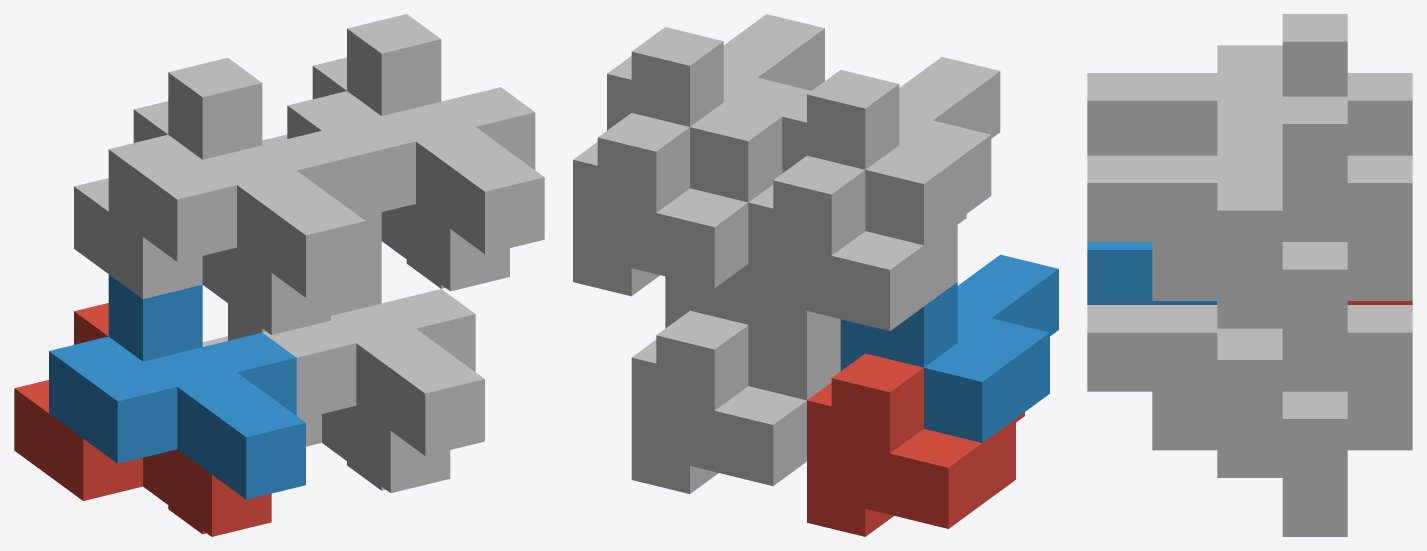
The model's file is tiling.obj.
The picture shows the model from 3 angles, left to right: view 1: azimuth 30°, elevation 25°; view 2: azimuth 150°, elevation 25°; view 3: azimuth 270°, elevation 25°; orthographic projection. The views are drawn at different scales.
Parts seen in each view (by area): view 1: copy_1_domain_4, copy_1_domain_2, copy_1_domain_8, copy_1_domain_6, copy_1_domain_3, copy_1_domain_1, copy_1_domain_7, copy_1_domain_5; view 2: copy_1_domain_4, copy_1_domain_3, copy_1_domain_1, copy_1_domain_8, copy_1_domain_5, copy_1_domain_7, copy_1_domain_2, copy_1_domain_6; view 3: copy_1_domain_8, copy_1_domain_5, copy_1_domain_7, copy_1_domain_4, copy_1_domain_6, copy_1_domain_3, copy_1_domain_2.
Part boxes in pixels (bbox=[...]): copy_1_domain_4: bbox=[108, 57, 365, 297]; copy_1_domain_2: bbox=[49, 274, 305, 499]; copy_1_domain_8: bbox=[287, 14, 544, 253]; copy_1_domain_6: bbox=[228, 241, 484, 455]; copy_1_domain_3: bbox=[74, 101, 330, 334]; copy_1_domain_1: bbox=[14, 303, 271, 536]; copy_1_domain_7: bbox=[262, 57, 509, 291]; copy_1_domain_5: bbox=[202, 336, 450, 492]; copy_1_domain_4: bbox=[782, 57, 1000, 245]; copy_1_domain_3: bbox=[748, 155, 966, 338]; copy_1_domain_1: bbox=[807, 353, 1024, 536]; copy_1_domain_8: bbox=[607, 14, 824, 202]; copy_1_domain_5: bbox=[631, 310, 806, 493]; copy_1_domain_7: bbox=[573, 113, 748, 296]; copy_1_domain_2: bbox=[840, 254, 1058, 442]; copy_1_domain_6: bbox=[665, 264, 840, 400]; copy_1_domain_8: bbox=[1087, 96, 1347, 328]; copy_1_domain_5: bbox=[1152, 305, 1412, 536]; copy_1_domain_7: bbox=[1152, 155, 1412, 387]; copy_1_domain_4: bbox=[1087, 14, 1347, 155]; copy_1_domain_6: bbox=[1087, 305, 1347, 477]; copy_1_domain_3: bbox=[1347, 73, 1412, 155]; copy_1_domain_2: bbox=[1087, 242, 1217, 304].
Bounding box in the file's own units: 7 × 7 × 5.
